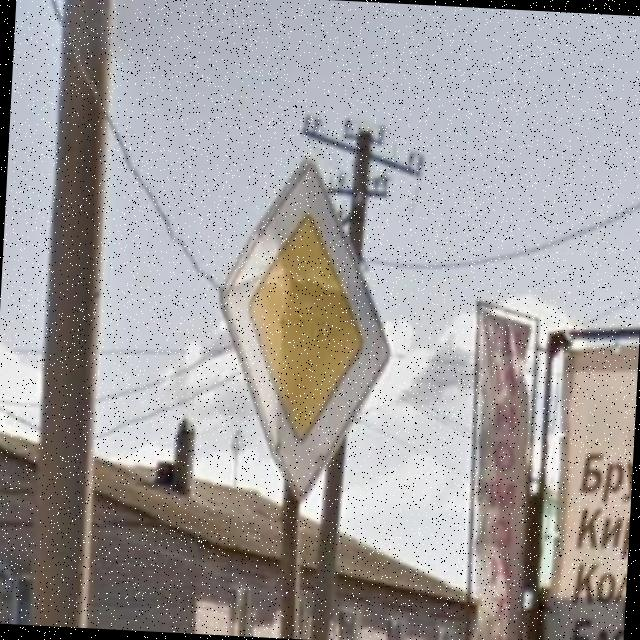Droga z pierwszenstwem: (208, 151, 400, 507)
